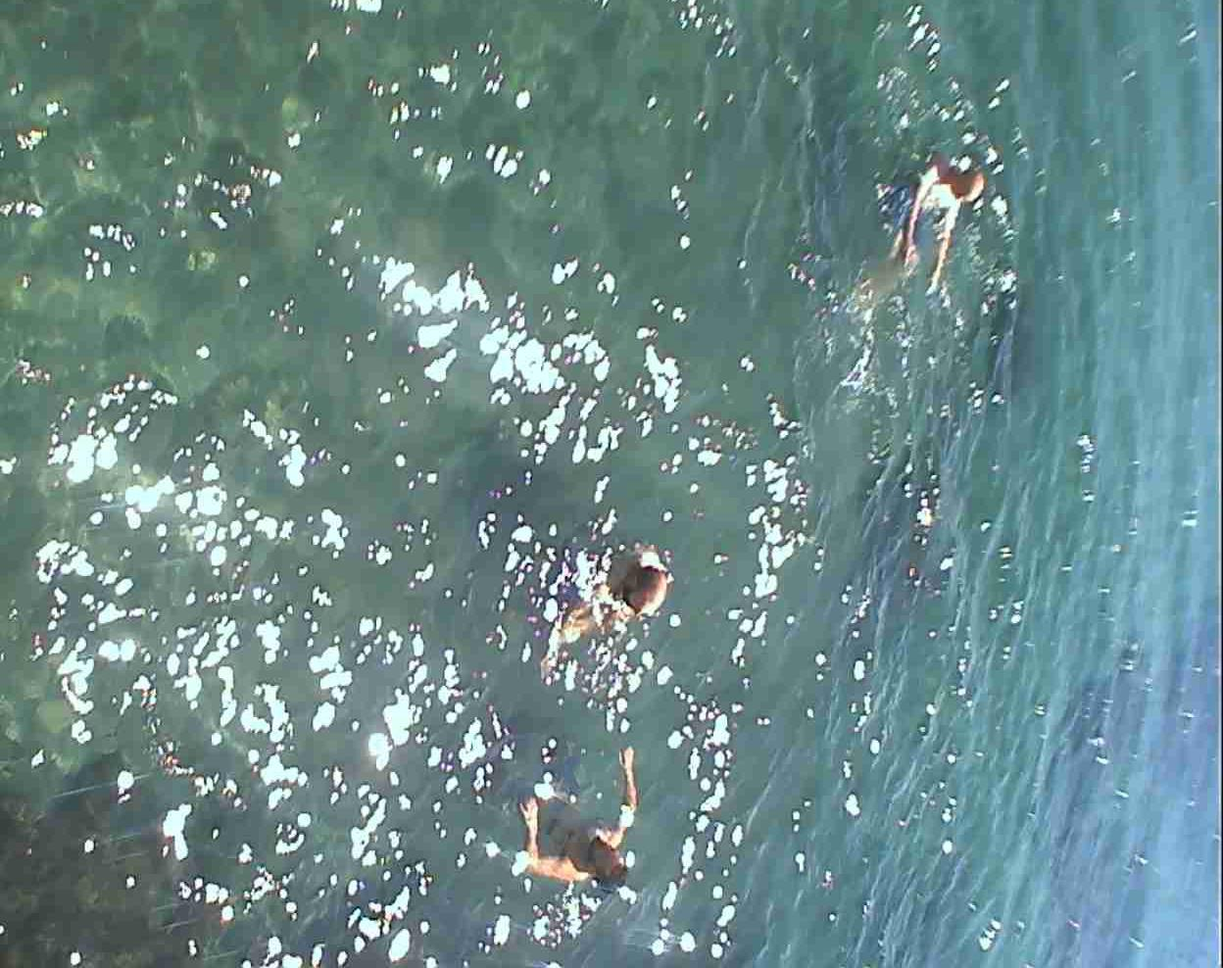human: (874, 97, 1059, 309), (514, 714, 657, 906), (582, 517, 701, 666)
